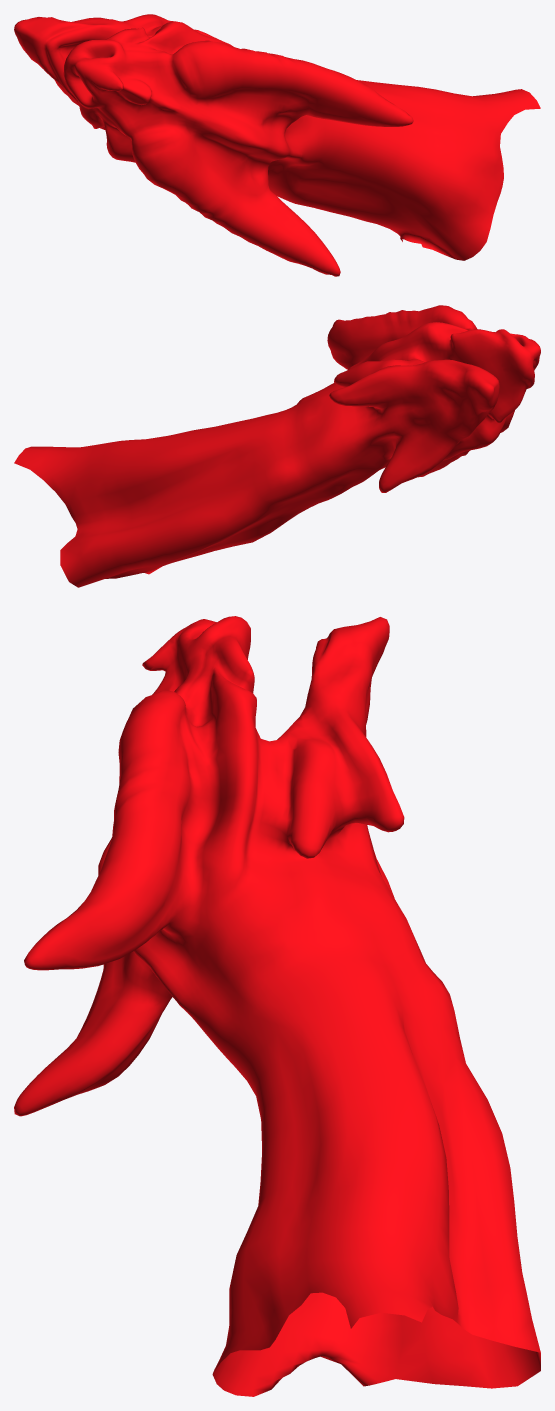
The model's file is Cabeza5.obj.
The picture shows the model from 3 angles, top to bottom: view 1: azimuth 30°, elevation 25°; view 2: azimuth 150°, elevation 25°; view 3: azimuth 270°, elevation 25°; orthographic projection. The views are drawn at different scales.
Visible parts, largest first — view 1: Cabeza5; view 2: Cabeza5; view 3: Cabeza5.
Part boxes in pixels (box(x1,y1,x2,y2)): Cabeza5: box(14, 14, 540, 276); Cabeza5: box(14, 305, 540, 587); Cabeza5: box(14, 616, 540, 1396).
Size of the model in its own units: 3.22 by 1.89 by 1.81.
Materials: 1 (1 with a texture image).
